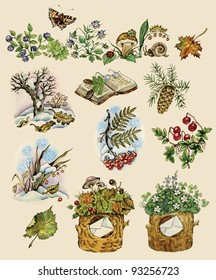Pc: (157, 85, 175, 115)
